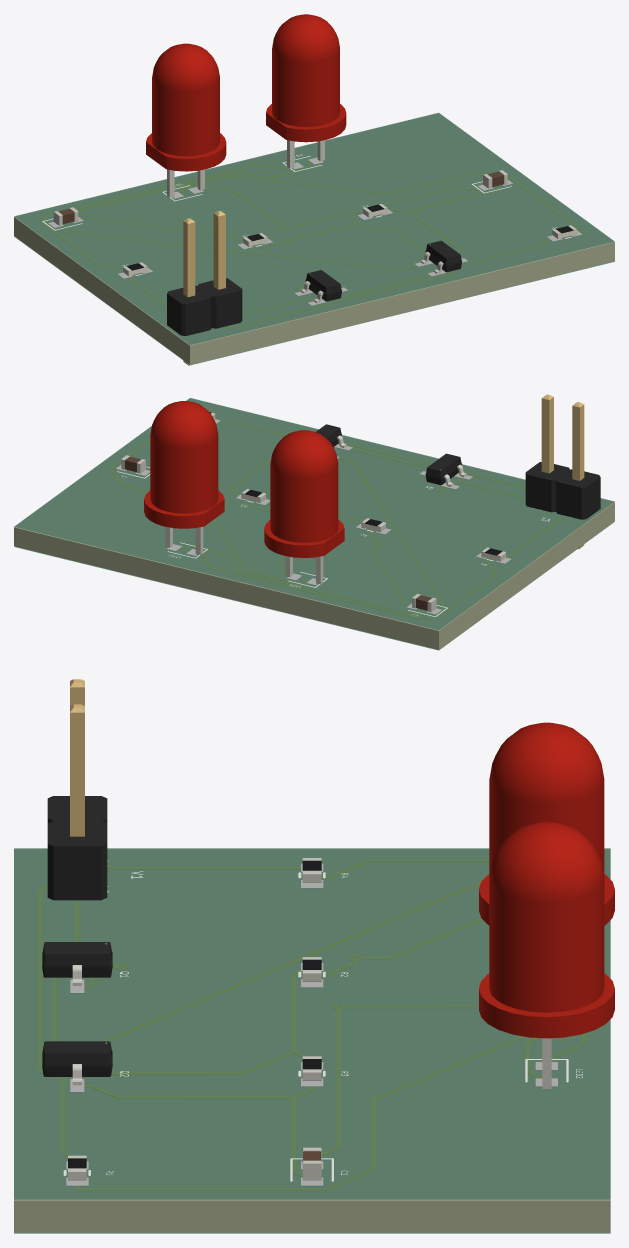
File: astable-flasher.glb
3 renders of one model, top to bottom at view 1: azimuth 30°, elevation 25°; view 2: azimuth 150°, elevation 25°; view 3: azimuth 270°, elevation 25°, orthographic. The views are drawn at different scales.
Parts seen in each view (by area): view 1: =>[0:1:1:18], =>[0:1:1:16], =>[0:1:1:7] (×2), =>[0:1:1:9], =>[0:1:1:12], =>[0:1:1:11] (×2), =>[0:1:1:13], =>[0:1:1:17]; view 2: =>[0:1:1:18], =>[0:1:1:16], =>[0:1:1:7] (×2), =>[0:1:1:9], =>[0:1:1:12], =>[0:1:1:11] (×2), =>[0:1:1:13], =>[0:1:1:17], =>[0:1:1:15]; view 3: =>[0:1:1:18], =>[0:1:1:16], =>[0:1:1:7] (×2), =>[0:1:1:9], =>[0:1:1:12], =>[0:1:1:11] (×2), =>[0:1:1:13], =>[0:1:1:17], =>[0:1:1:15].
Part boxes in pixels (x1,y1,x2,y2): =>[0:1:1:18]: [14, 114, 614, 364]; =>[0:1:1:16]: [14, 112, 614, 344]; =>[0:1:1:7] (×2): [146, 14, 346, 197]; =>[0:1:1:9]: [167, 210, 242, 365]; =>[0:1:1:12]: [42, 162, 583, 327]; =>[0:1:1:11] (×2): [301, 240, 461, 303]; =>[0:1:1:13]: [48, 157, 582, 305]; =>[0:1:1:17]: [14, 236, 614, 365]; =>[0:1:1:18]: [14, 399, 614, 649]; =>[0:1:1:16]: [14, 398, 614, 630]; =>[0:1:1:7] (×2): [144, 401, 344, 584]; =>[0:1:1:9]: [525, 394, 600, 549]; =>[0:1:1:12]: [110, 422, 566, 618]; =>[0:1:1:11] (×2): [316, 424, 466, 486]; =>[0:1:1:13]: [116, 419, 511, 614]; =>[0:1:1:17]: [14, 521, 614, 650]; =>[0:1:1:15]: [117, 466, 571, 616]; =>[0:1:1:18]: [14, 850, 610, 1232]; =>[0:1:1:16]: [14, 848, 610, 1199]; =>[0:1:1:7] (×2): [479, 722, 614, 1089]; =>[0:1:1:9]: [47, 679, 107, 900]; =>[0:1:1:12]: [38, 860, 586, 1189]; =>[0:1:1:11] (×2): [42, 942, 112, 1085]; =>[0:1:1:13]: [66, 864, 557, 1185]; =>[0:1:1:17]: [14, 1232, 610, 1233]; =>[0:1:1:15]: [63, 860, 582, 1181].
Size of the model in its own units: 0.0354 by 0.0146 by 0.0256.
